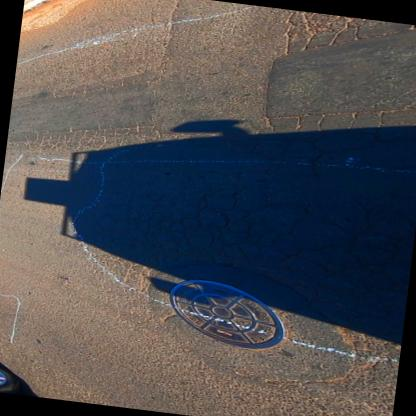manholes: (158, 272, 298, 356)
